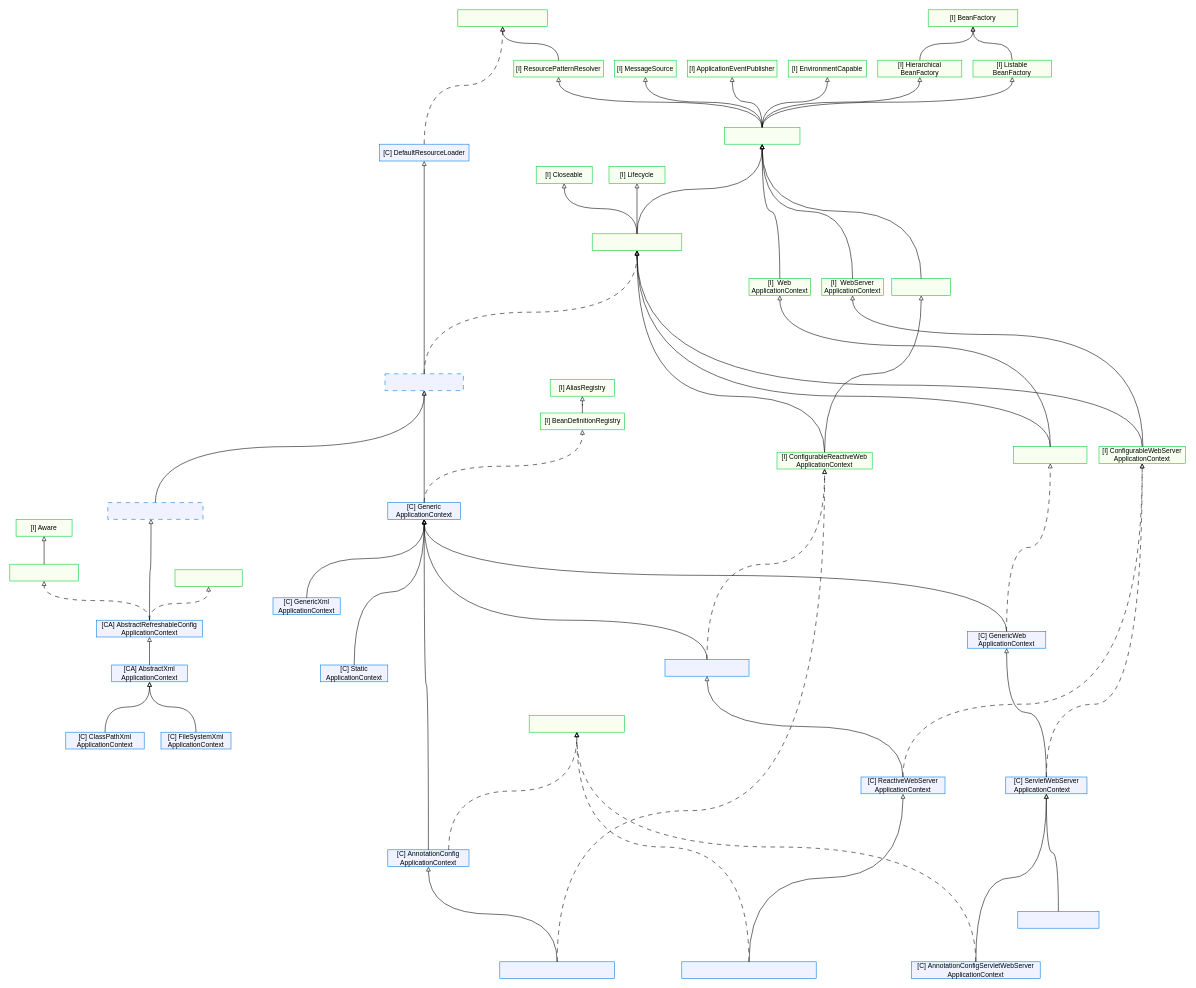
Some shapes in this 1196 by 988 pixel diagram are drawn without their labels. The box of each missing label's shape, as (x1, y1, x2, y2) in pixels:
[C] AnnotationConfigReactiveWeb ApplicationContext: (499, 961, 615, 979)
[C] AnnotationConfigReactiveWebServer ApplicationContext: (681, 961, 816, 979)
[C] GenericReactiveWeb ApplicationContext: (664, 659, 749, 676)
[C] XmlServletWebServer ApplicationContext: (1017, 911, 1099, 928)
[CA] Abstract ApplicationContext: (384, 373, 463, 391)
[CA] AbstractRefreshable ApplicationContext: (107, 502, 203, 519)
[I] AnnotationConfigRegistry: (529, 715, 624, 732)
[I] ApplicationContext: (724, 127, 800, 144)
[I] BeanNameAware: (9, 564, 78, 581)
[I] Configurable ApplicationContext: (592, 233, 682, 251)
[I] ConfigurableWeb ApplicationContext: (1013, 446, 1087, 463)
[I] InitializingBean: (174, 569, 242, 587)
[I] ReactiveWeb ApplicationContext: (891, 278, 951, 295)
[I] ResourceLoader: (457, 9, 547, 27)
